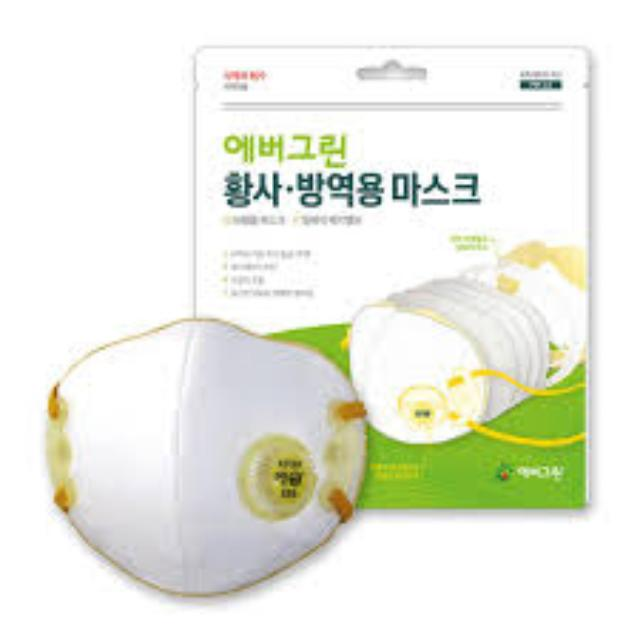masks: (23, 322, 389, 608)
